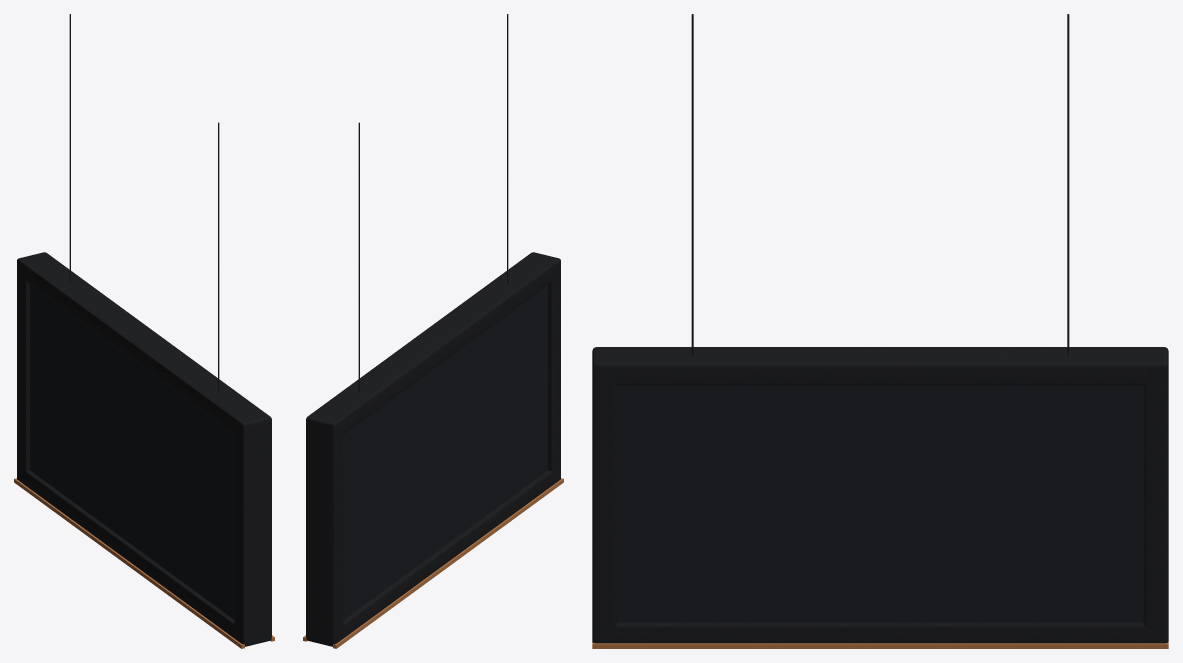
File: SM_EC_TableSign.glb
3 renders of one model, left to right at view 1: azimuth 30°, elevation 25°; view 2: azimuth 150°, elevation 25°; view 3: azimuth 270°, elevation 25°, orthographic. The views are drawn at different scales.
Visible parts, largest first — view 1: SM_EC_TableSign; view 2: SM_EC_TableSign; view 3: SM_EC_TableSign.
Boxes of the visible parts, bbox=[...] form: SM_EC_TableSign: bbox=[14, 14, 274, 648]; SM_EC_TableSign: bbox=[303, 14, 563, 648]; SM_EC_TableSign: bbox=[592, 14, 1168, 648].
Bounding box in the file's own units: 0.078 × 1.1 × 0.92.
3 materials, 3 textured.
